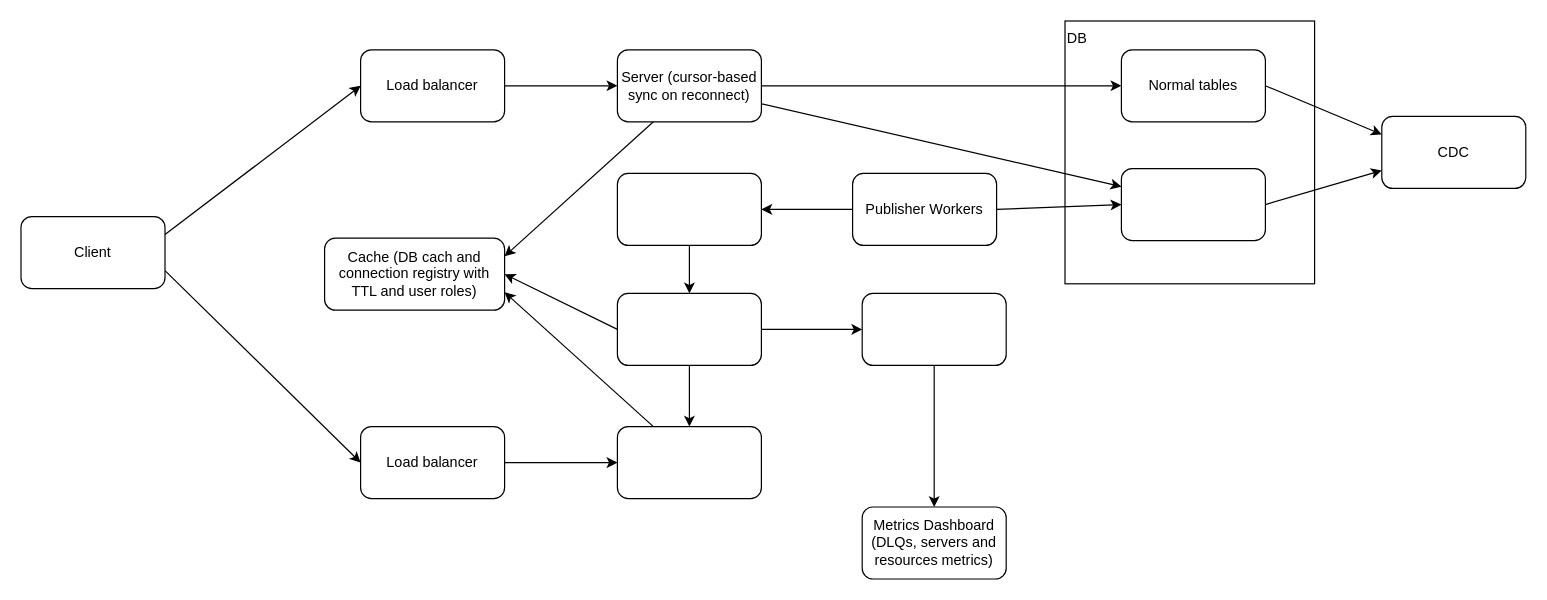
This 1547x600 diagram has some shape labels left out. Each missing label, with the box of its shape:
DLQ: (861, 292, 1006, 365)
Event Queues: (616, 172, 761, 245)
Outbox events tabels: (1120, 167, 1265, 241)
Websocket (deals with slow clients and reconnections): (616, 425, 761, 499)
Websocket workers: (616, 292, 761, 365)
